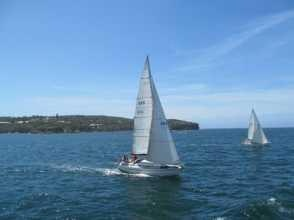fanchuan: (113, 54, 187, 178), (239, 104, 274, 146)
